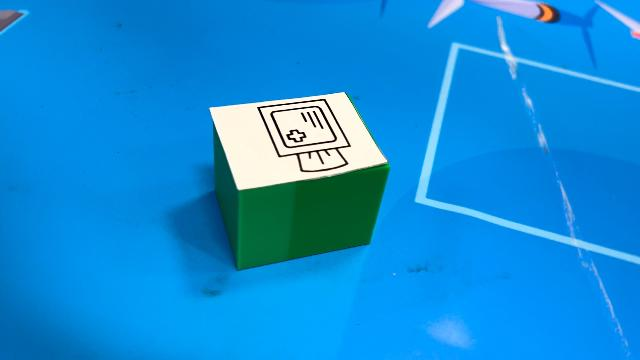napkin: (207, 90, 391, 270)
